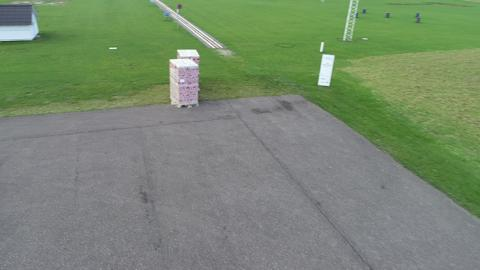RockwoolPallet: (179, 50, 199, 73)
